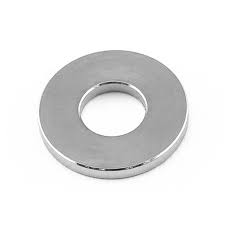No thread: (67, 73, 154, 134)
